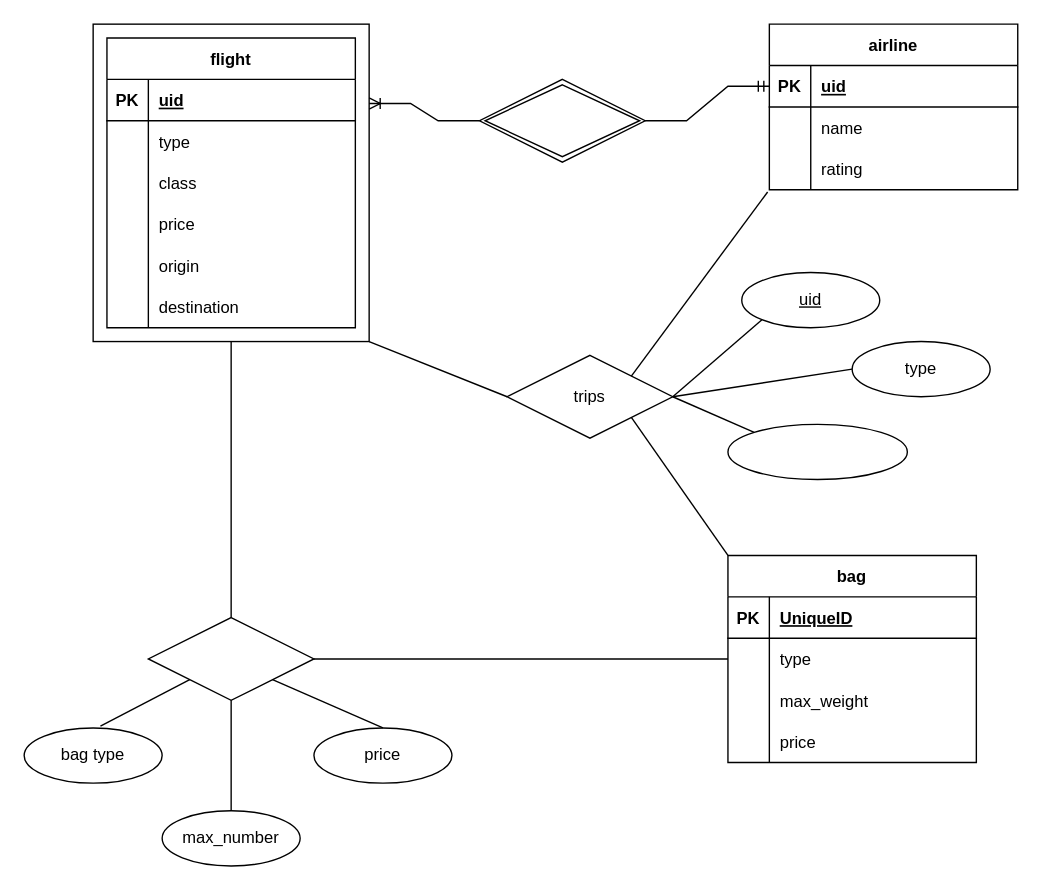
The diagram is 1042 pixels wide and 890 high, and some of its shapes have lost their labels. Each missing label, with the centre of its shape:
"allowed bag" belongs at (x=230, y=658).
"max_numer_of_bags" belongs at (x=817, y=451).
"sold by" belongs at (x=561, y=120).
